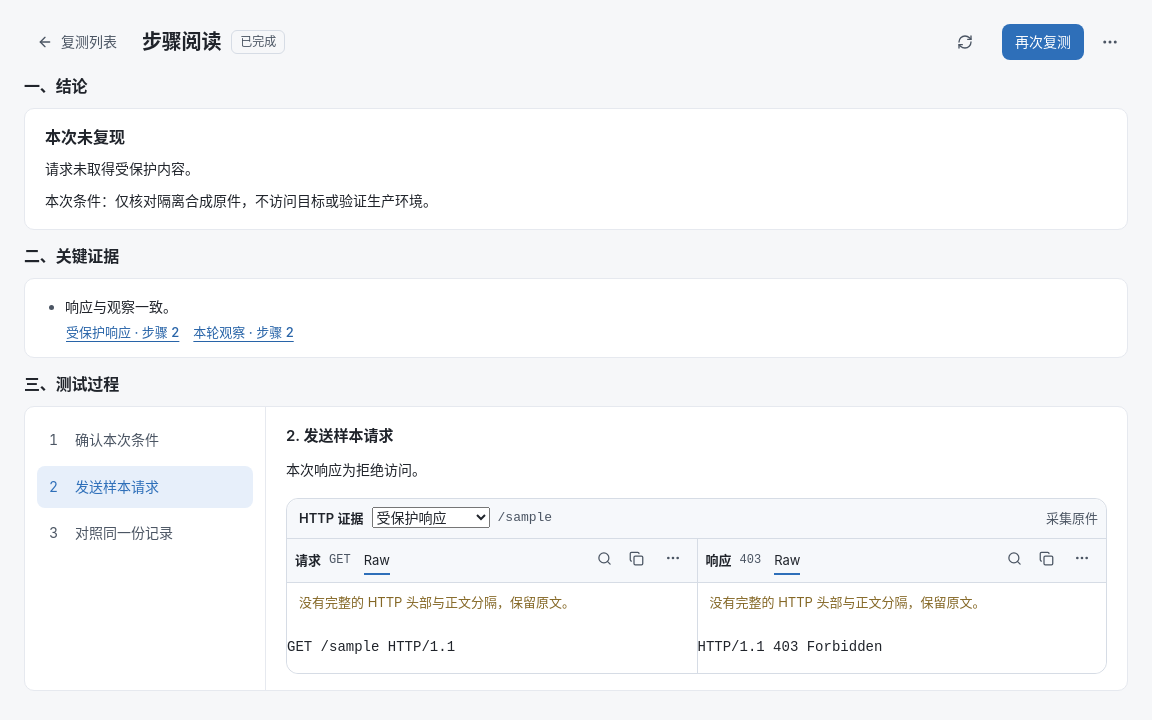
Scenario: 复测收尾交互边界 › 默认选中含主证据的步骤，一条依据的多个交互可精确定位且只挂载当前步骤
Expected: the heading "2. 发送样本请求" is shown, [286,426,394,445]
Expected: the number of "EvidenceReader" components is 1, [286,498,1107,674]
What coordinates should you click on to do the following:
click the button "本轮观察 · 步骤 2"
I would click on:
 (244, 332)
Its box is [192,323,295,341].
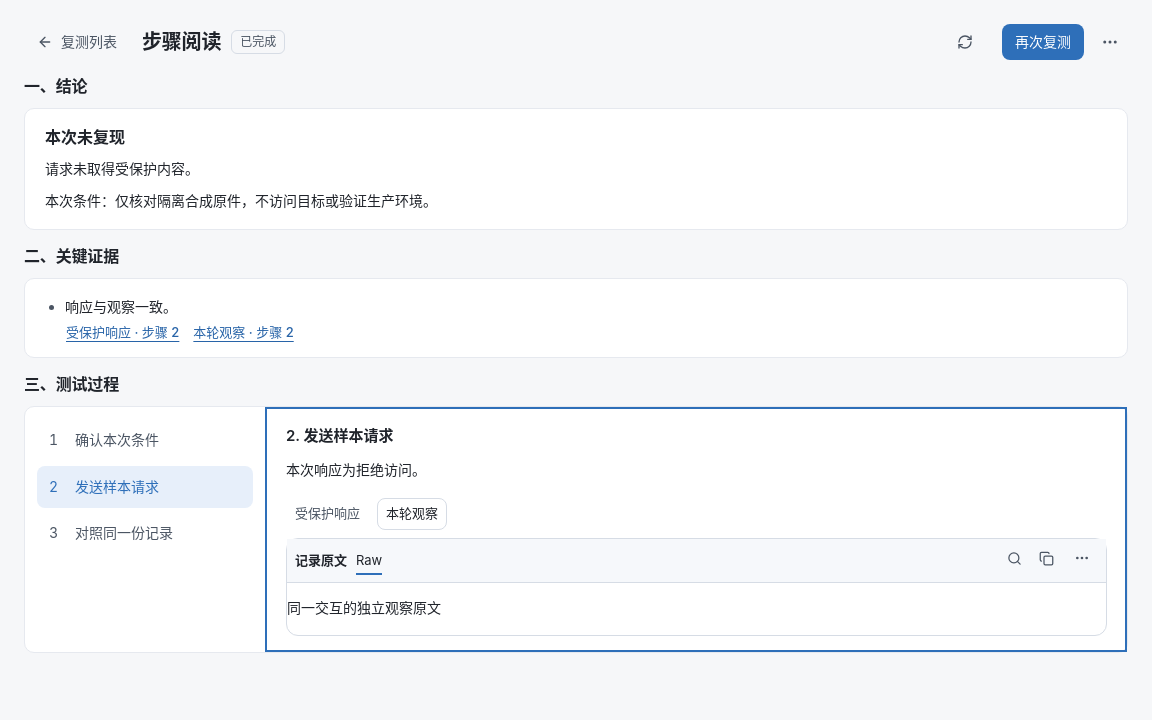
Now the element showing "2. 发送样本请求 本次响应为拒绝访问。 受保护响应 本轮观察 记录原文 Raw 同一交互的独立观察原文" is shown, box [265,407,1127,652]
Now the text "GET /sample HTTP/1.1" is gone
What coordinates should you click on to do the following:
click the button "3 对照同一份记录"
I would click on:
 (145, 533)
Its box is [37,512,253,554].
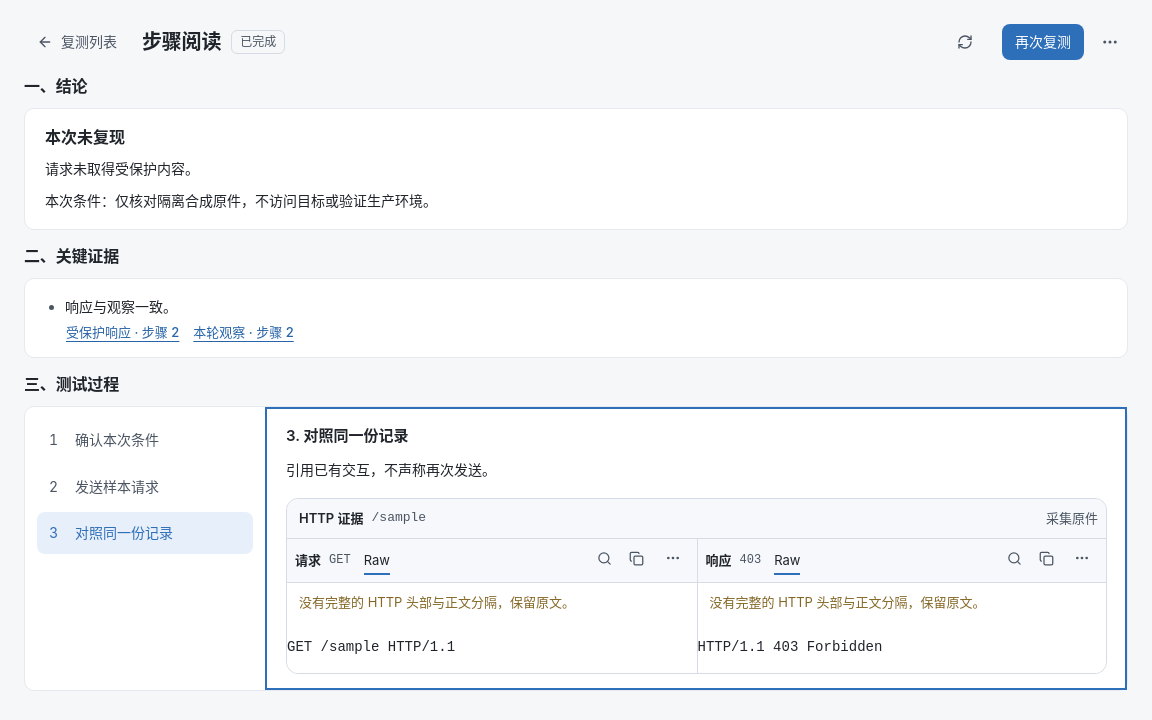
Expected: the number of "EvidenceReader" components is 1, [286,498,1107,674]
Now the heading "3. 对照同一份记录" is shown, box [286,426,408,445]
Now the number of elements with test id "evidence-content" is 2, box [287,639,455,655]; [698,639,882,655]
What coordinates should you click on to do the following:
click the button "受保护响应 · 步骤 2"
I would click on:
 (123, 332)
Its box is [65,323,180,341].
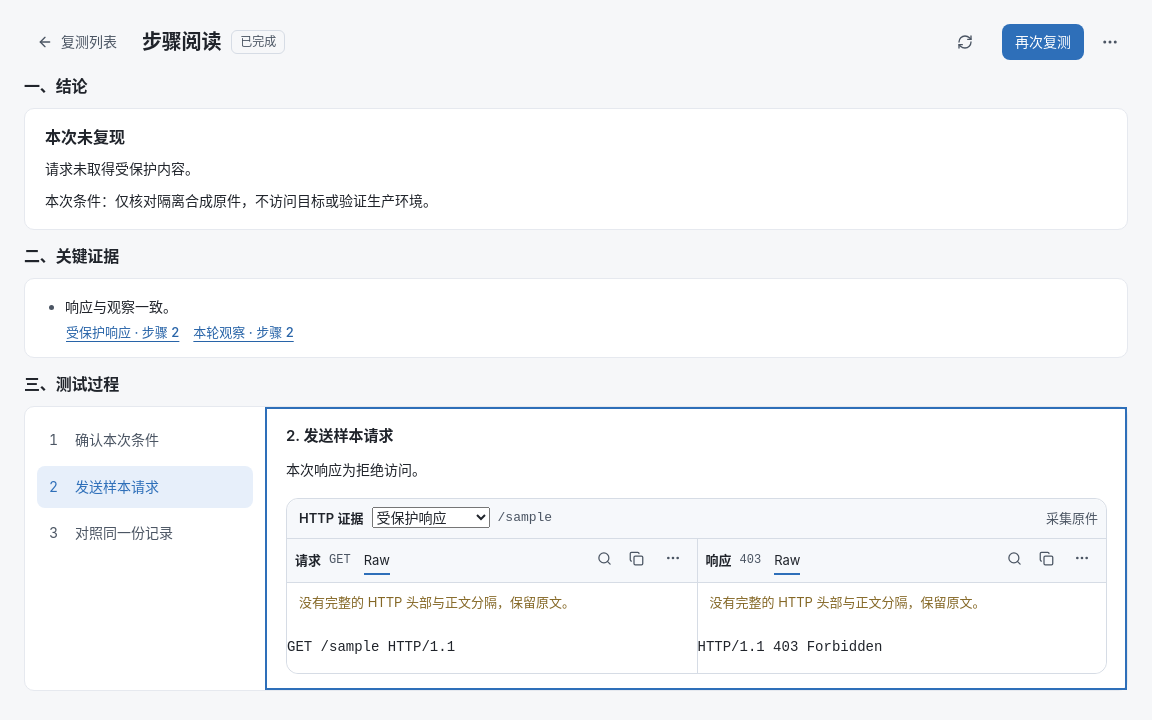
Now the heading "2. 发送样本请求" is shown, box [286,426,394,445]
